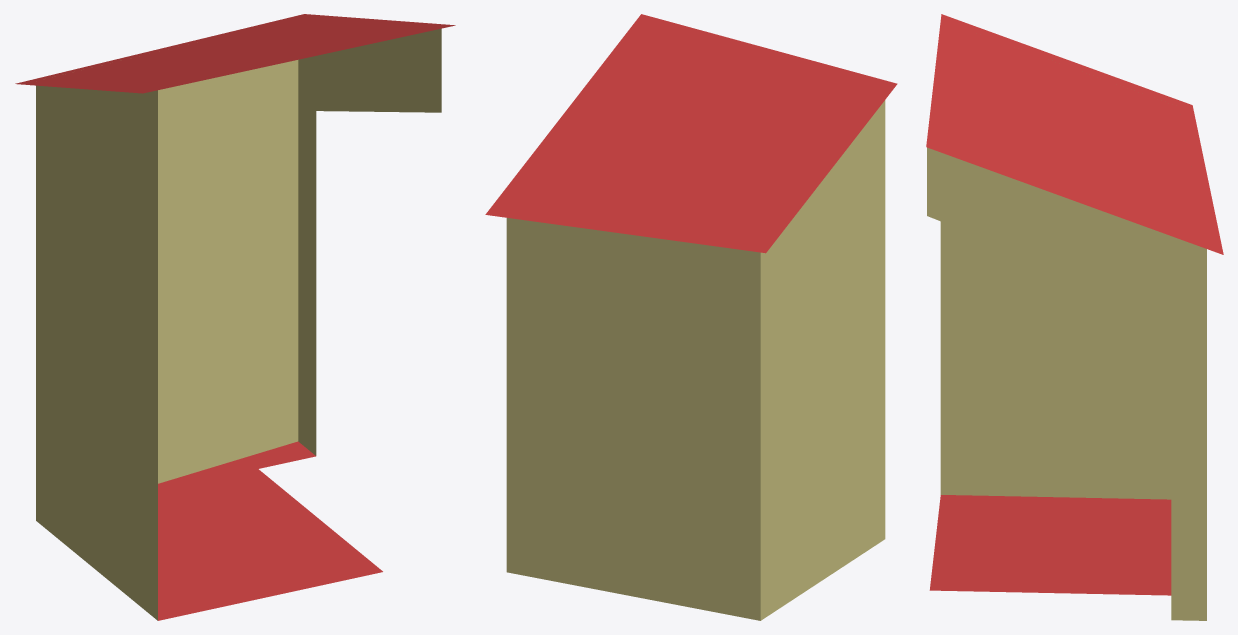
The picture shows the model from 3 angles, left to right: view 1: azimuth 30°, elevation 25°; view 2: azimuth 150°, elevation 25°; view 3: azimuth 270°, elevation 25°; orthographic projection. The views are drawn at different scales.
Bounding box in the file's own units: 5.43 × 4.9 × 8.62.
